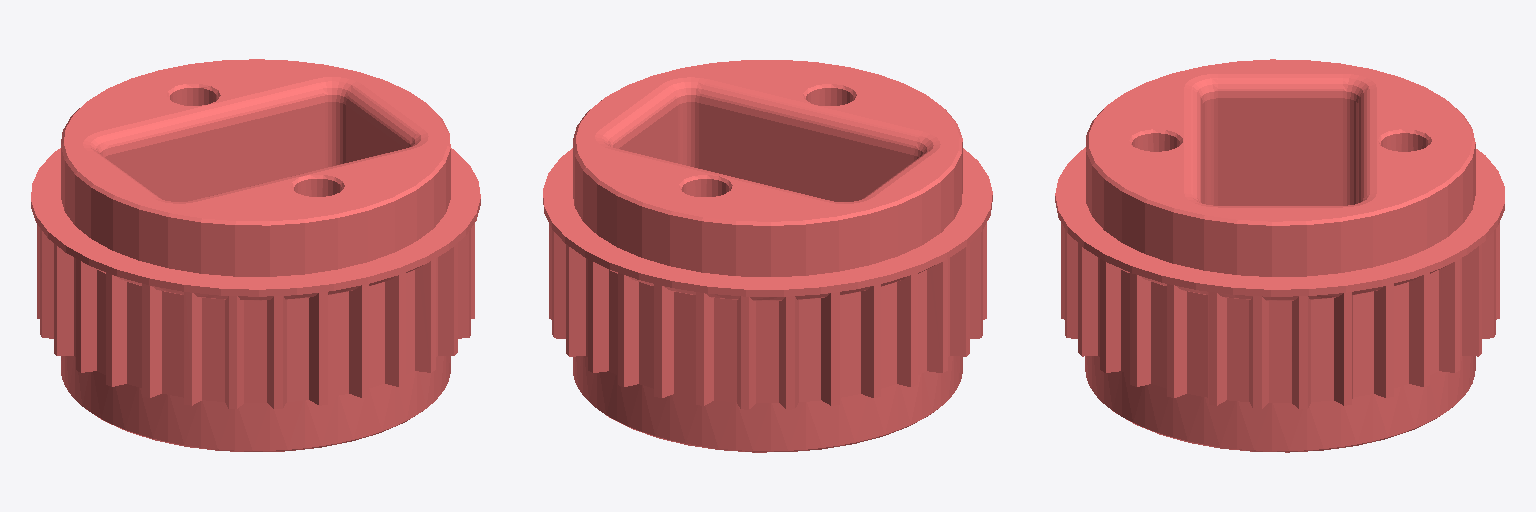
Rendered from solo12_hip_fe_1.obj.
3 renders of one model, left to right at view 1: azimuth 30°, elevation 25°; view 2: azimuth 150°, elevation 25°; view 3: azimuth 270°, elevation 25°, orthographic.
Bounding box in the file's own units: 0.029 × 0.0164 × 0.0289.